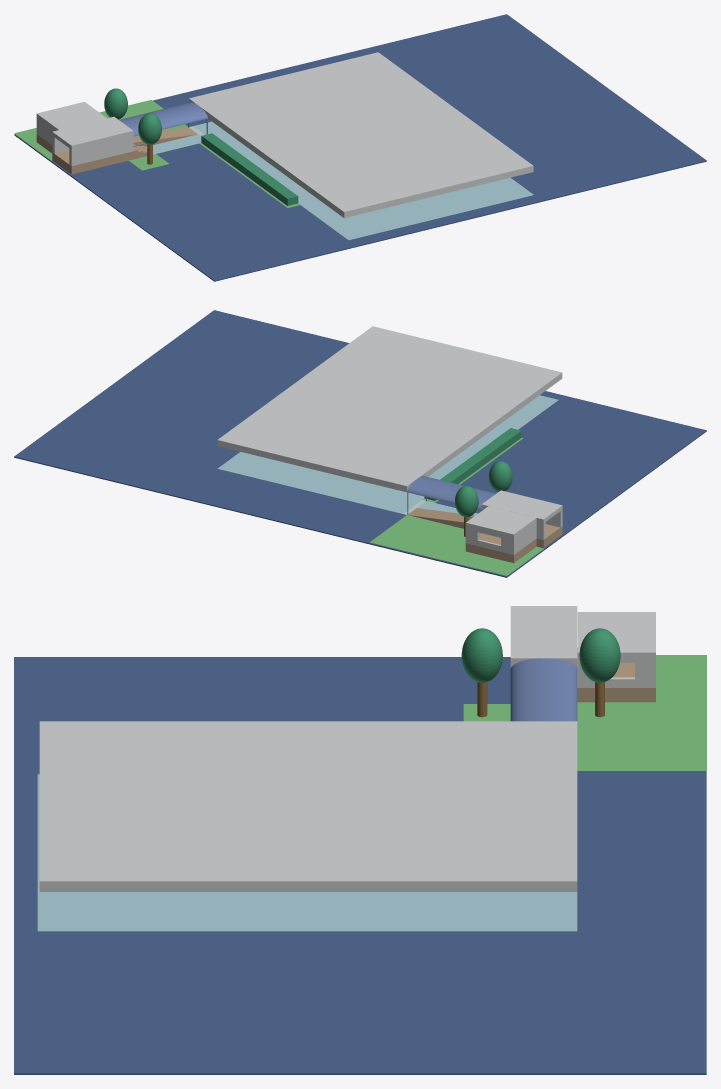
File: Bentao.glb
3 renders of one model, top to bottom at view 1: azimuth 30°, elevation 25°; view 2: azimuth 150°, elevation 25°; view 3: azimuth 270°, elevation 25°, orthographic. The views are drawn at different scales.
Parts seen in each view (by area): view 1: Mesh_Mesh_head_geo.001_lambert2SG.001; view 2: Mesh_Mesh_head_geo.001_lambert2SG.001; view 3: Mesh_Mesh_head_geo.001_lambert2SG.001.
Boxes of the visible parts, bbox=[...] form: Mesh_Mesh_head_geo.001_lambert2SG.001: bbox=[14, 14, 706, 281]; Mesh_Mesh_head_geo.001_lambert2SG.001: bbox=[14, 310, 706, 577]; Mesh_Mesh_head_geo.001_lambert2SG.001: bbox=[14, 606, 706, 1074].
Size of the model in its own units: 0.502 by 0.05 by 0.3531.
